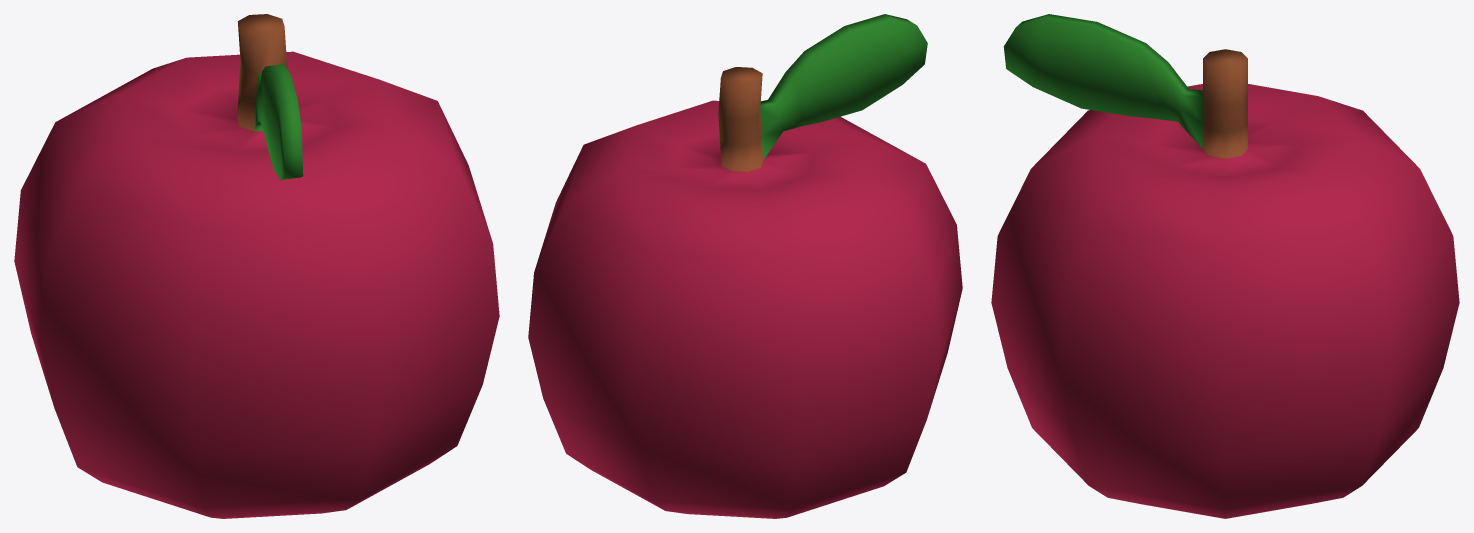
Rendered from Apple.fbx.
3 views of the same model, side by side, from view 1: azimuth 30°, elevation 25°; view 2: azimuth 150°, elevation 25°; view 3: azimuth 270°, elevation 25° (orthographic). The views are drawn at different scales.
Visible parts, largest first — view 1: Cylinder; view 2: Cylinder; view 3: Cylinder.
Part boxes in pixels (x1,y1,x2,y2): Cylinder: [14, 14, 499, 518]; Cylinder: [528, 14, 962, 518]; Cylinder: [991, 14, 1459, 518].
Size of the model in its own units: 149 by 149 by 149.
